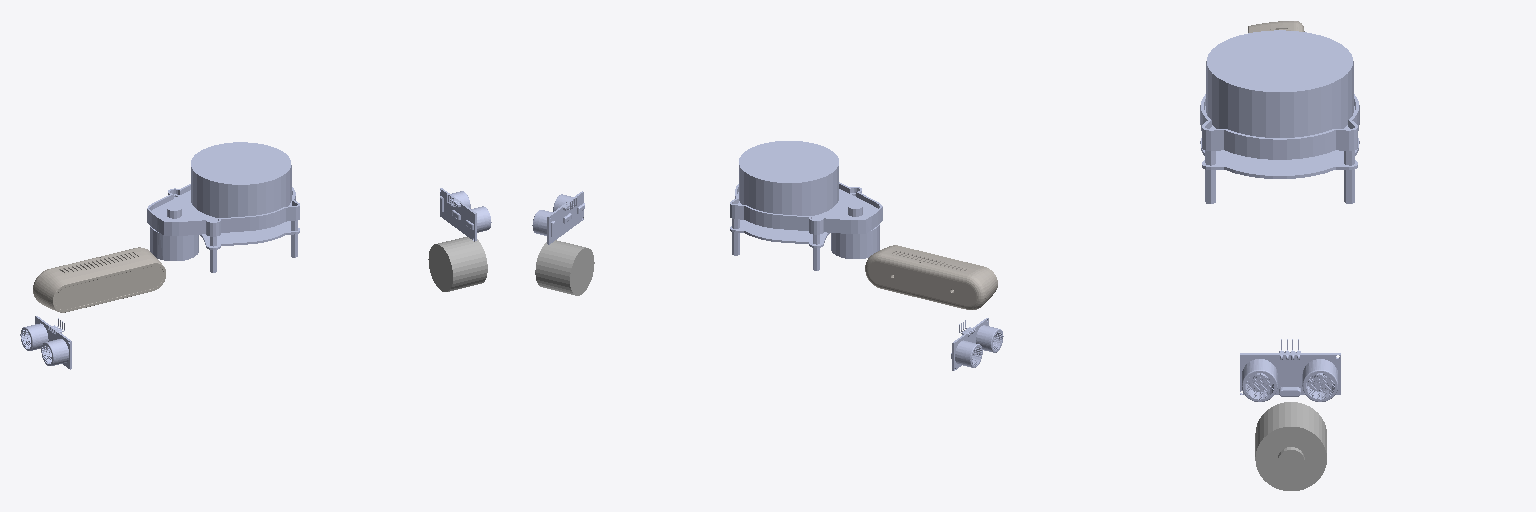
robot.urdf — nokbot_model:
<?xml version="1.0" encoding="utf-8"?>
<!-- This URDF was automatically created by SolidWorks to URDF Exporter! Originally created by [author] ([email redacted]) 
     Commit Version: 1.6.0-4-g7f85cfe  Build Version: 1.6.7995.38578
     For more information, please see http://wiki.ros.org/sw_urdf_exporter -->
<robot
  name="nokbot_model">


<link
  name="base_footprint">
</link>

<joint
  name="base_link_to_base_footprint_joint"
  type="fixed">
  <origin
    xyz="0 0 0"
    rpy="0 0 0" />
  <parent
    link="base_link" />
  <child
    link="base_footprint" />
</joint>
  <link
    name="base_link">
    <inertial>
      <origin
        xyz="-0.000788920964726242 -4.11100356683958E-05 -0.0312452052245896"
        rpy="0 0 0" />
      <mass
        value="2.69874254136563" />
      <inertia
        ixx="0.00137687296700071"
        ixy="-8.38447944630287E-06"
        ixz="-1.80199597246119E-07"
        iyy="0.00216152821383713"
        iyz="9.76058942954636E-14"
        izz="0.00284455761292107" />
    </inertial>
    <visual>F
      <origin
        xyz="0 0 0"
        rpy="0 0 0" />
      <geometry>
        <mesh
          filename="package://nokbot_model/meshes/base_link.STL" />
      </geometry>
      <material
        name="">
        <color
          rgba="0.752941176470588 0.752941176470588 0.752941176470588 1" />
      </material>
    </visual>
    <collision>
      <origin
        xyz="0 0 0"
        rpy="0 0 0" />
      <geometry>
        <mesh
          filename="package://nokbot_model/meshes/base_link.STL" />
      </geometry>
    </collision>
  </link>
  <link
    name="camera_link">
    <inertial>
      <origin
        xyz="3.7238E-07 0.0076701 -4.8169E-05"
        rpy="0 0 0" />
      <mass
        value="0.048201" />
      <inertia
        ixx="3.3506E-06"
        ixy="4.2599E-07"
        ixz="-2.1161E-09"
        iyy="2.7391E-05"
        iyz="7.5493E-09"
        izz="2.6652E-05" />
    </inertial>
    <visual>
      <origin
        xyz="0 0 0"
        rpy="0 0 0" />
      <geometry>
        <mesh
          filename="package://nokbot_model/meshes/realsense_link.STL" />
      </geometry>
      <material
        name="">
        <color
          rgba="0.77647 0.75686 0.73725 1" />
      </material>
    </visual>
    <collision>
      <origin
        xyz="0 0 0"
        rpy="0 0 0" />
      <geometry>
        <mesh
          filename="package://nokbot_model/meshes/realsense_link.STL" />
      </geometry>
    </collision>
  </link>
  <joint
    name="camera_joint"
    type="fixed">
    <origin
      xyz="-0.125 0.001375 0.0295"
      rpy="0 0 3.14" />
    <parent
      link="base_link" />
    <child
      link="camera_link" />
    <axis
      xyz="0 0 0" />
  </joint>
  <link
    name="lidar_link">
    <inertial>
      <origin
        xyz="0.00829409957033964 0 -0.00854885777720898"
        rpy="0 0 0" />
      <mass
        value="0.146695752131392" />
      <inertia
        ixx="6.22721120792818E-05"
        ixy="-1.49787902731058E-20"
        ixz="1.88658076337422E-05"
        iyy="0.000109673997590948"
        iyz="1.18259672326782E-20"
        izz="0.000125682524275729" />
    </inertial>
    <visual>
      <origin
        xyz="0 0 0"
        rpy="0 0 0" />
      <geometry>
        <mesh
          filename="package://nokbot_model/meshes/lidar_link.STL" />
      </geometry>
      <material
        name="">
        <color
          rgba="0.792156862745098 0.819607843137255 0.933333333333333 1" />
      </material>
    </visual>
    <collision>
      <origin
        xyz="0 0 0"
        rpy="0 0 0" />
      <geometry>
        <mesh
          filename="package://nokbot_model/meshes/lidar_link.STL" />
      </geometry>
    </collision>
  </link>
  <joint
    name="lidar_joint"
    type="fixed">
    <origin
      xyz="-0.0185 -0.005 0.07525"
      rpy="0 0 3.1416" />
    <parent
      link="base_link" />
    <child
      link="lidar_link" />
    <axis
      xyz="0 0 0" />
    <limit
      lower="0"
      upper="0"
      effort="0"
      velocity="0" />
  </joint>
  <link
    name="front_sonar_link">
    <inertial>
      <origin
        xyz="0.000518886989761144 0.00250458607848193 -0.0299506167345617"
        rpy="0 0 0" />
      <mass
        value="0.00448963056401978" />
      <inertia
        ixx="1.73996293195748E-07"
        ixy="3.9569407225273E-10"
        ixz="-1.65561540691571E-09"
        iyy="9.36811064369325E-07"
        iyz="-2.81129607908181E-09"
        izz="8.86355942937648E-07" />
    </inertial>
    <visual>
      <origin
        xyz="0 0 0"
        rpy="0 0 0" />
      <geometry>
        <mesh
          filename="package://nokbot_model/meshes/front_sonar_link.STL" />
      </geometry>
      <material
        name="">
        <color
          rgba="0.792156862745098 0.819607843137255 0.933333333333333 1" />
      </material>
    </visual>
    <collision>
      <origin
        xyz="0 0 0"
        rpy="0 0 0" />
      <geometry>
        <mesh
          filename="package://nokbot_model/meshes/front_sonar_link.STL" />
      </geometry>
    </collision>
  </link>
  <joint
    name="front_sonar_joint"
    type="fixed">
    <origin
      xyz="-0.1575 -0.001 -0.0395"
      rpy="3.1416 0 -1.5708" />
    <parent
      link="base_link" />
    <child
      link="front_sonar_link" />
    <axis
      xyz="0 0 0" />
  </joint>
  <link
    name="rear_sonar_link">
    <inertial>
      <origin
        xyz="0.019518886959456 0.0109506167411778 0.0210045860771162"
        rpy="0 0 0" />
      <mass
        value="0.00448963056876648" />
      <inertia
        ixx="1.739962933911E-07"
        ixy="1.65561640702511E-09"
        ixz="3.95693925127516E-10"
        iyy="8.86355943097899E-07"
        iyz="2.81129612060652E-09"
        izz="9.36811064707442E-07" />
    </inertial>
    <visual>
      <origin
        xyz="0 0 0"
        rpy="0 0 0" />
      <geometry>
        <mesh
          filename="package://nokbot_model/meshes/rear_sonar_link.STL" />
      </geometry>
      <material
        name="">
        <color
          rgba="0.792156862745098 0.819607843137255 0.933333333333333 1" />
      </material>
    </visual>
    <collision>
      <origin
        xyz="0 0 0"
        rpy="0 0 0" />
      <geometry>
        <mesh
          filename="package://nokbot_model/meshes/rear_sonar_link.STL" />
      </geometry>
    </collision>
  </link>
  <joint
    name="rear_sonar_joint"
    type="fixed">
    <origin
      xyz="0.129 -0.02 0"
      rpy="1.5708 0 1.5708" />
    <parent
      link="base_link" />
    <child
      link="rear_sonar_link" />
    <axis
      xyz="0 0 0" />
  </joint>
  <link
    name="magnet_link">
    <inertial>
      <origin
        xyz="-0.0127684801892372 0 0"
        rpy="0 0 0" />
      <mass
        value="0.0212497327088814" />
      <inertia
        ixx="2.68264366601217E-06"
        ixy="-9.23072584957306E-39"
        ixz="-2.38178035981036E-23"
        iyy="2.5897282567185E-06"
        iyz="2.20663591616801E-40"
        izz="2.5897282567185E-06" />
    </inertial>
    <visual>
      <origin
        xyz="0 0 0"
        rpy="0 0 0" />
      <geometry>
        <mesh
          filename="package://nokbot_model/meshes/magnet_link.STL" />
      </geometry>
      <material
        name="">
        <color
          rgba="0.752941176470588 0.752941176470588 0.752941176470588 1" />
      </material>
    </visual>
    <collision>
      <origin
        xyz="0 0 0"
        rpy="0 0 0" />
      <geometry>
        <mesh
          filename="package://nokbot_model/meshes/magnet_link.STL" />
      </geometry>
    </collision>
  </link>
  <joint
    name="magnet_joint"
    type="fixed">
    <origin
      xyz="0.16 0 -0.0245"
      rpy="0 0 0" />
    <parent
      link="base_link" />
    <child
      link="magnet_link" />
    <axis
      xyz="0 0 0" />
  </joint>
  <link
    name="wheel_fl_link">
    <inertial>
      <origin
        xyz="-0.0184994275208872 -5.16253706450698E-15 -7.49400541621981E-16"
        rpy="0 0 0" />
      <mass
        value="0.0419127518240036" />
      <inertia
        ixx="3.56691829868352E-06"
        ixy="8.24525948726465E-22"
        ixz="-8.17175131256189E-22"
        iyy="3.67888005135437E-06"
        iyz="-8.86406744411824E-21"
        izz="3.67888005135437E-06" />
    </inertial>
    <visual>
      <origin
        xyz="0 0 0"
        rpy="0 0 0" />
      <geometry>
        <mesh
          filename="package://nokbot_model/meshes/wheel_fl_link.STL" />
      </geometry>
      <material
        name="">
        <color
          rgba="0.752941176470588 0.752941176470588 0.752941176470588 1" />
      </material>
    </visual>
    <collision>
      <origin
        xyz="0 0 0"
        rpy="0 0 0" />
      <geometry>
        <mesh
          filename="package://nokbot_model/meshes/wheel_fl_link.STL" />
      </geometry>
    </collision>
  </link>
  <joint
    name="wheel_fl_joint"
    type="continuous">
    <origin
      xyz="-0.1185 -0.09 -0.035647"
      rpy="1.5558 0 1.5708" />
    <parent
      link="base_link" />
    <child
      link="wheel_fl_link" />
    <axis
      xyz="1 0 0" />
  </joint>
  <link
    name="wheel_fr_link">
    <inertial>
      <origin
        xyz="0.0414293686258033 2.77555756156289E-17 0"
        rpy="0 0 0" />
      <mass
        value="0.0419127520114961" />
      <inertia
        ixx="3.56706005649266E-06"
        ixy="-1.46986051576405E-22"
        ixz="1.69939451046903E-21"
        iyy="3.67887378202204E-06"
        iyz="2.5410988417629E-21"
        izz="3.67887378202206E-06" />
    </inertial>
    <visual>
      <origin
        xyz="0 0 0"
        rpy="0 0 0" />
      <geometry>
        <mesh
          filename="package://nokbot_model/meshes/wheel_fr_link.STL" />
      </geometry>
      <material
        name="">
        <color
          rgba="0.752941176470588 0.752941176470588 0.752941176470588 1" />
      </material>
    </visual>
    <collision>
      <origin
        xyz="0 0 0"
        rpy="0 0 0" />
      <geometry>
        <mesh
          filename="package://nokbot_model/meshes/wheel_fr_link.STL" />
      </geometry>
    </collision>
  </link>
  <joint
    name="wheel_fr_joint"
    type="continuous">
    <origin
      xyz="-0.1185 0.067 -0.035647"
      rpy="1.8478 0 1.5708" />
    <parent
      link="base_link" />
    <child
      link="wheel_fr_link" />
    <axis
      xyz="1 0 0" />
  </joint>
  <link
    name="wheel_bl_link">
    <inertial>
      <origin
        xyz="-0.0294900593597941 0 -2.22044604925031E-16"
        rpy="0 0 0" />
      <mass
        value="0.0419127519725272" />
      <inertia
        ixx="3.56706008400786E-06"
        ixy="1.02759096533814E-21"
        ixz="9.41309700656892E-22"
        iyy="3.67887379839621E-06"
        iyz="1.97153056265794E-21"
        izz="3.67887379839623E-06" />
    </inertial>
    <visual>
      <origin
        xyz="0 0 0"
        rpy="0 0 0" />
      <geometry>
        <mesh
          filename="package://nokbot_model/meshes/wheel_bl_link.STL" />
      </geometry>
      <material
        name="">
        <color
          rgba="0.752941176470588 0.752941176470588 0.752941176470588 1" />
      </material>
    </visual>
    <collision>
      <origin
        xyz="0 0 0"
        rpy="0 0 0" />
      <geometry>
        <mesh
          filename="package://nokbot_model/meshes/wheel_bl_link.STL" />
      </geometry>
    </collision>
  </link>
  <joint
    name="wheel_bl_joint"
    type="continuous">
    <origin
      xyz="0.1185 -0.079081 -0.035647"
      rpy="1.5708 0 1.5708" />
    <parent
      link="base_link" />
    <child
      link="wheel_bl_link" />
    <axis
      xyz="1 0 0" />
  </joint>
  <link
    name="wheel_br_link">
    <inertial>
      <origin
        xyz="0 0 0"
        rpy="0 0 0" />
      <mass
        value="0" />
      <inertia
        ixx="0"
        ixy="0"
        ixz="0"
        iyy="0"
        iyz="0"
        izz="0" />
    </inertial>
    <visual>
      <origin
        xyz="0 0 0"
        rpy="0 0 0" />
      <geometry>
        <mesh
          filename="package://nokbot_model/meshes/wheel_br_link.STL" />
      </geometry>
      <material
        name="">
        <color
          rgba="1 1 1 1" />
      </material>
    </visual>
    <collision>
      <origin
        xyz="0 0 0"
        rpy="0 0 0" />
      <geometry>
        <mesh
          filename="package://nokbot_model/meshes/wheel_br_link.STL" />
      </geometry>
    </collision>
  </link>
  <joint
    name="wheel_br_joint"
    type="continuous">
    <origin
      xyz="0.118502000000001 0.0899999999999999 -0.035647"
      rpy="1.5707963267949 0 1.5707963267949" />
    <parent
      link="base_link" />
    <child
      link="wheel_br_link" />
    <axis
      xyz="1 0 0" />
  </joint>
</robot>

--- Render facts (derived) ---
The picture shows the robot from 3 angles, left to right: view 1: azimuth 30°, elevation 25°; view 2: azimuth 150°, elevation 25°; view 3: azimuth 270°, elevation 25°; orthographic projection.
Robot: nokbot_model — 11 links, 10 joints (4 continuous, 6 fixed); root link base_link; default pose: all joints at 0.
Links seen in each view (by area): view 1: lidar_link, camera_link, magnet_link, front_sonar_link, rear_sonar_link; view 2: lidar_link, camera_link, magnet_link, front_sonar_link, rear_sonar_link; view 3: lidar_link, magnet_link, rear_sonar_link.
Link boxes in pixels (x1=…): lidar_link: x1=147, y1=142, x2=299, y2=272; camera_link: x1=33, y1=247, x2=165, y2=312; magnet_link: x1=428, y1=237, x2=487, y2=291; front_sonar_link: x1=20, y1=316, x2=71, y2=369; rear_sonar_link: x1=440, y1=188, x2=491, y2=241; lidar_link: x1=730, y1=141, x2=882, y2=270; camera_link: x1=865, y1=245, x2=997, y2=309; magnet_link: x1=535, y1=240, x2=594, y2=295; front_sonar_link: x1=951, y1=318, x2=1003, y2=370; rear_sonar_link: x1=532, y1=191, x2=584, y2=244; lidar_link: x1=1200, y1=30, x2=1359, y2=203; magnet_link: x1=1255, y1=402, x2=1326, y2=490; rear_sonar_link: x1=1240, y1=339, x2=1340, y2=401.
Size in the robot's own frame: 0.333 by 0.0709 by 0.1285 metres.
5 mesh visuals loaded from 10 distinct referenced files (5 binary STL); not drawn: 5 (reference not matched to a file when rendering).